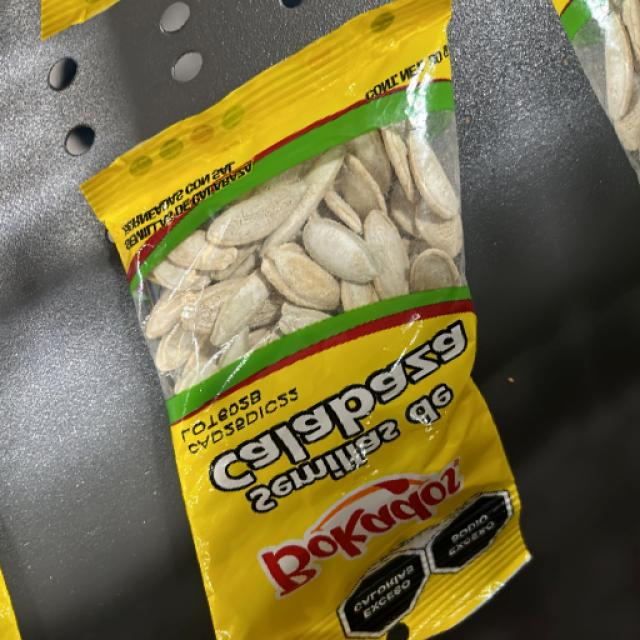semillasCalabaza: (154, 125, 500, 617)
